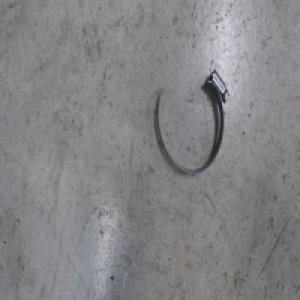AdjustableClamp: (155, 67, 229, 179)
